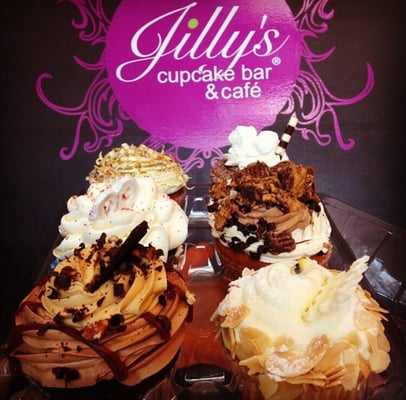sushi: (21, 142, 195, 382), (216, 255, 393, 392), (206, 125, 334, 279)
